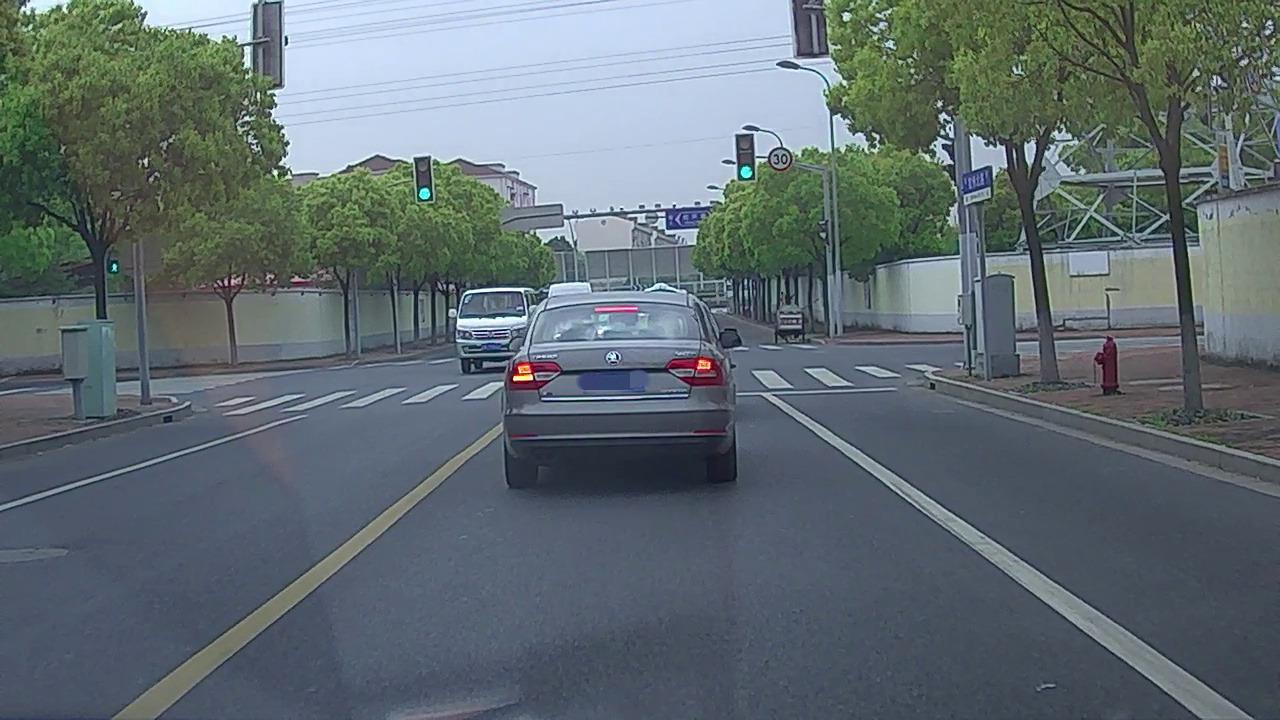traffic_light: (736, 133, 756, 181), (415, 157, 433, 201)
